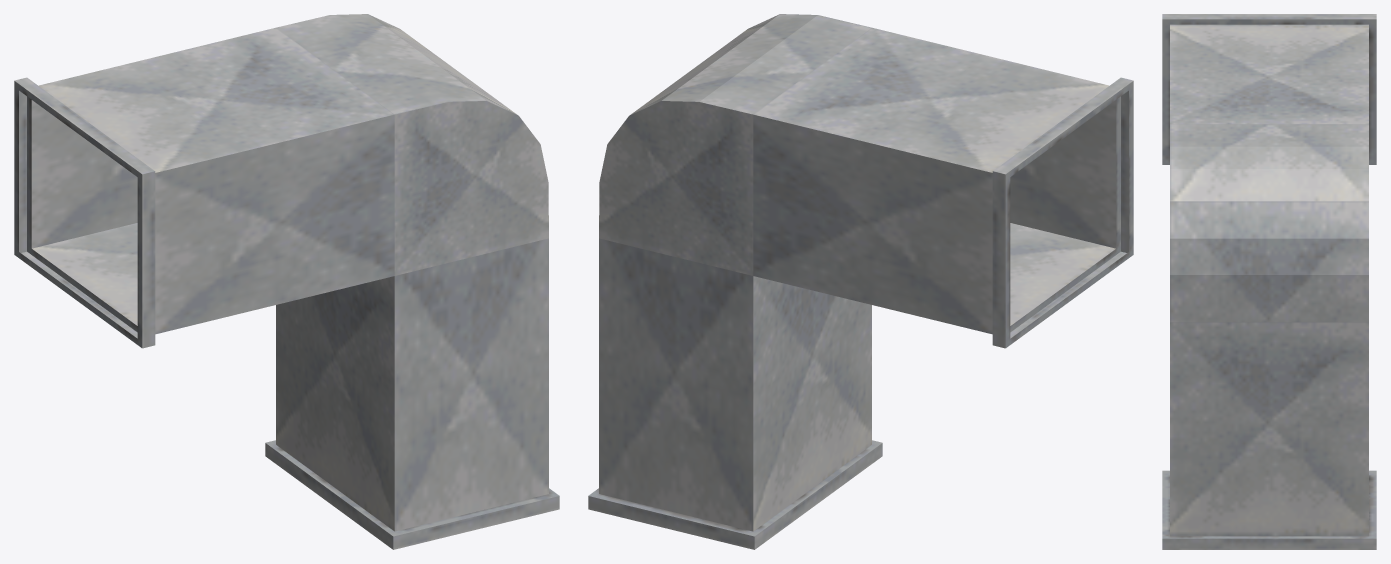
Rendered from duct_turn_90.fbx.
3 views of the same model, side by side, from view 1: azimuth 30°, elevation 25°; view 2: azimuth 150°, elevation 25°; view 3: azimuth 270°, elevation 25° (orthographic). The views are drawn at different scales.
Visible parts, largest first — view 1: Cube.001; view 2: Cube.001; view 3: Cube.001.
Part boxes in pixels (bbox=[...]): Cube.001: bbox=[14, 14, 559, 549]; Cube.001: bbox=[588, 14, 1133, 549]; Cube.001: bbox=[1162, 14, 1376, 549].
Bounding box in the file's own units: 325 × 325 × 173.
